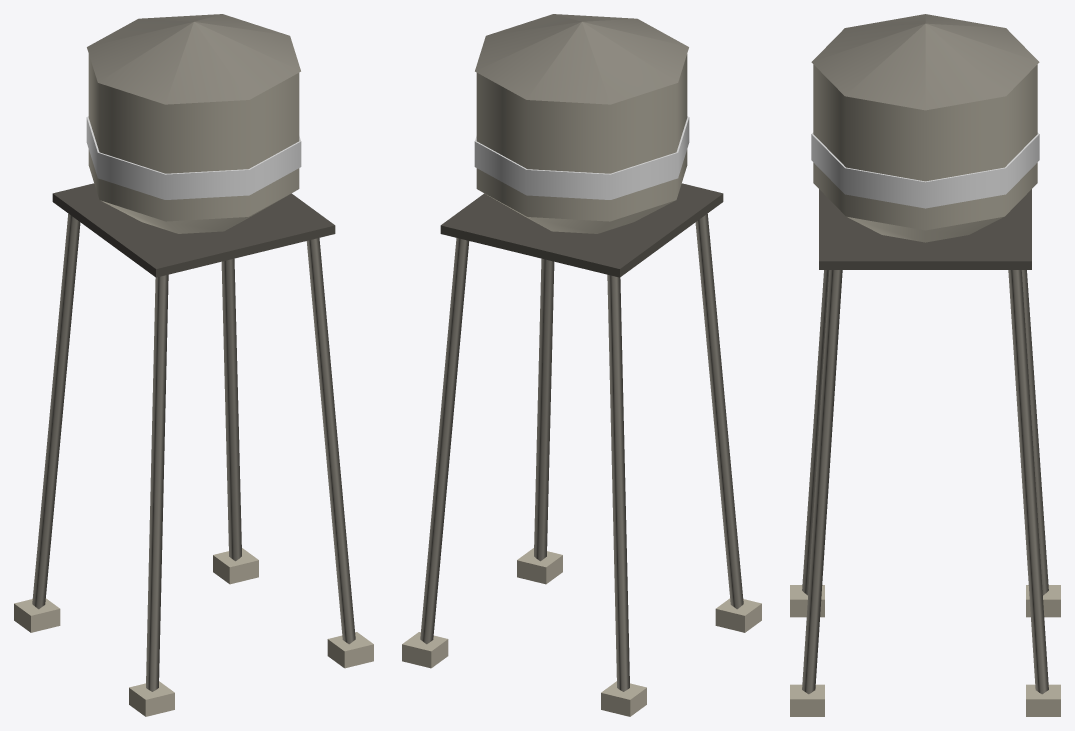
3 views of the same model, side by side, from view 1: azimuth 30°, elevation 25°; view 2: azimuth 150°, elevation 25°; view 3: azimuth 270°, elevation 25° (orthographic). The views are drawn at different scales.
Visible parts, largest first — view 1: site_water_tower_restored; view 2: site_water_tower_restored; view 3: site_water_tower_restored.
Part boxes in pixels (x1,y1,x2,y2): site_water_tower_restored: (14,14,373,716); site_water_tower_restored: (402,14,761,716); site_water_tower_restored: (790,14,1060,716).
Bounding box in the file's own units: 7 × 18.15 × 7.
